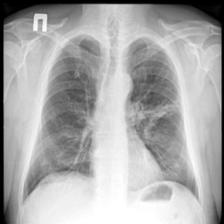tuberculosis: (18, 27, 204, 207)
